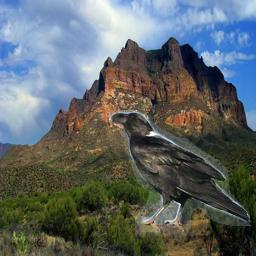Crow: (109, 110, 250, 238)
